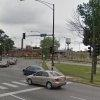Crosswalk: (2, 73, 28, 95)
